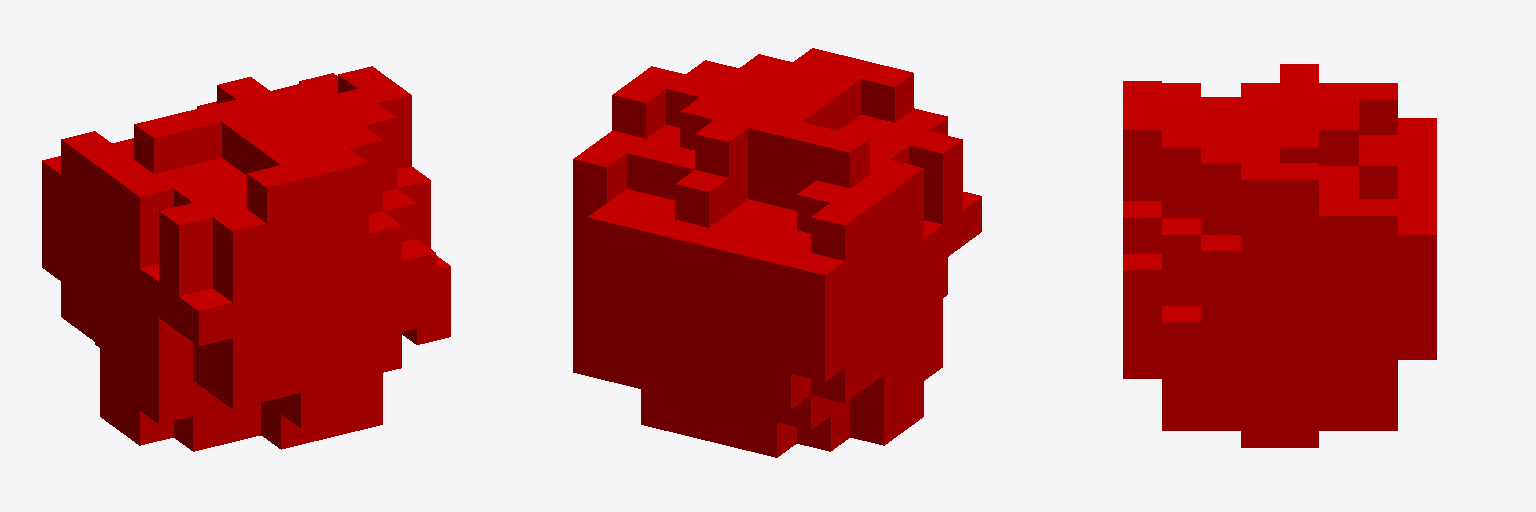
3 views of the same model, side by side, from view 1: azimuth 30°, elevation 25°; view 2: azimuth 150°, elevation 25°; view 3: azimuth 270°, elevation 25° (orthographic).
Parts seen in each view (by area): view 1: apple; view 2: apple; view 3: apple.
Boxes of the visible parts, x1,y1,x2,y2 form: apple: [42, 66, 450, 451]; apple: [573, 48, 981, 457]; apple: [1123, 64, 1436, 447].
Size of the model in its own units: 8 by 8 by 8.
1 materials, 1 textured.